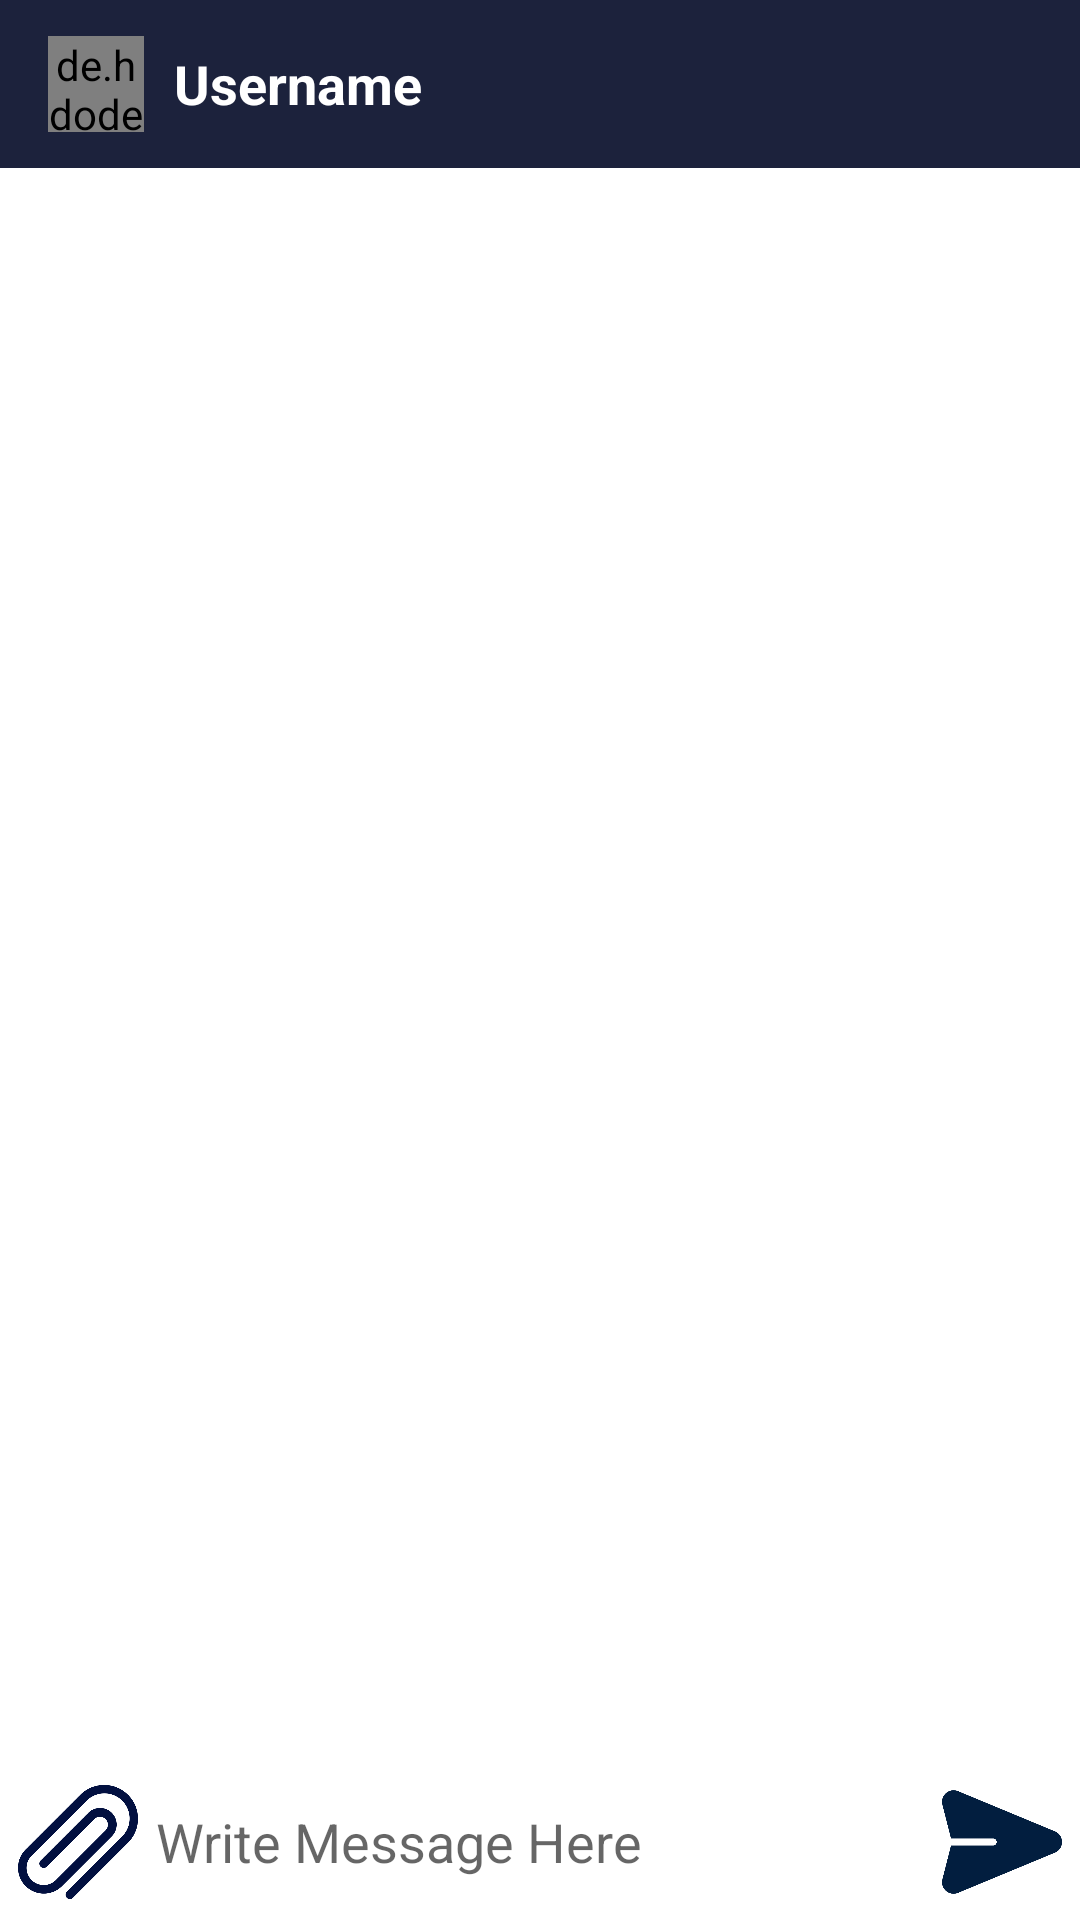

Named icons in this screenshot (1080px×1920px) and their bounding boxes, [x1,y1,x2,y2]:
attach file: [18,1785,138,1899]
send: [942,1790,1062,1894]
